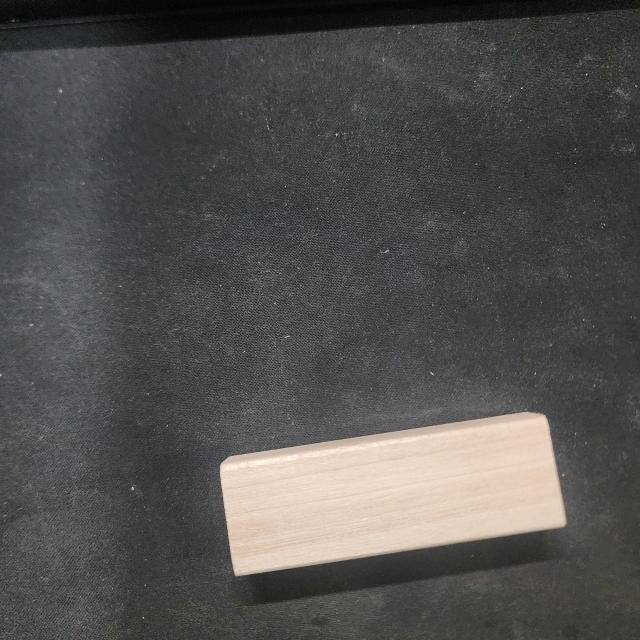wood: (216, 405, 565, 578)
